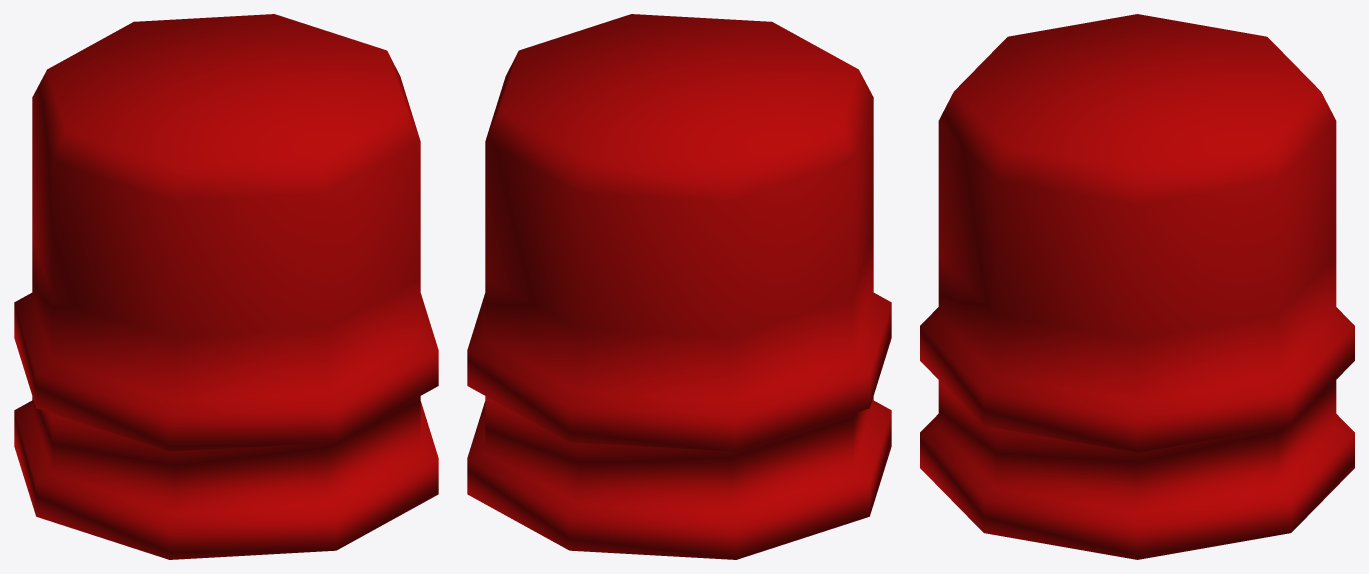
Rendered from SM_WineBottle_Cap.fbx.
The picture shows the model from 3 angles, left to right: view 1: azimuth 30°, elevation 25°; view 2: azimuth 150°, elevation 25°; view 3: azimuth 270°, elevation 25°; orthographic projection.
Parts seen in each view (by area): view 1: WineBottleCap; view 2: WineBottleCap; view 3: WineBottleCap.
Boxes of the visible parts, x1,y1,x2,y2 form: WineBottleCap: (14,14,438,559); WineBottleCap: (467,14,891,559); WineBottleCap: (920,14,1354,559).
Size of the model in its own units: 2.42 by 2.42 by 2.33.
1 material, 1 textured.
